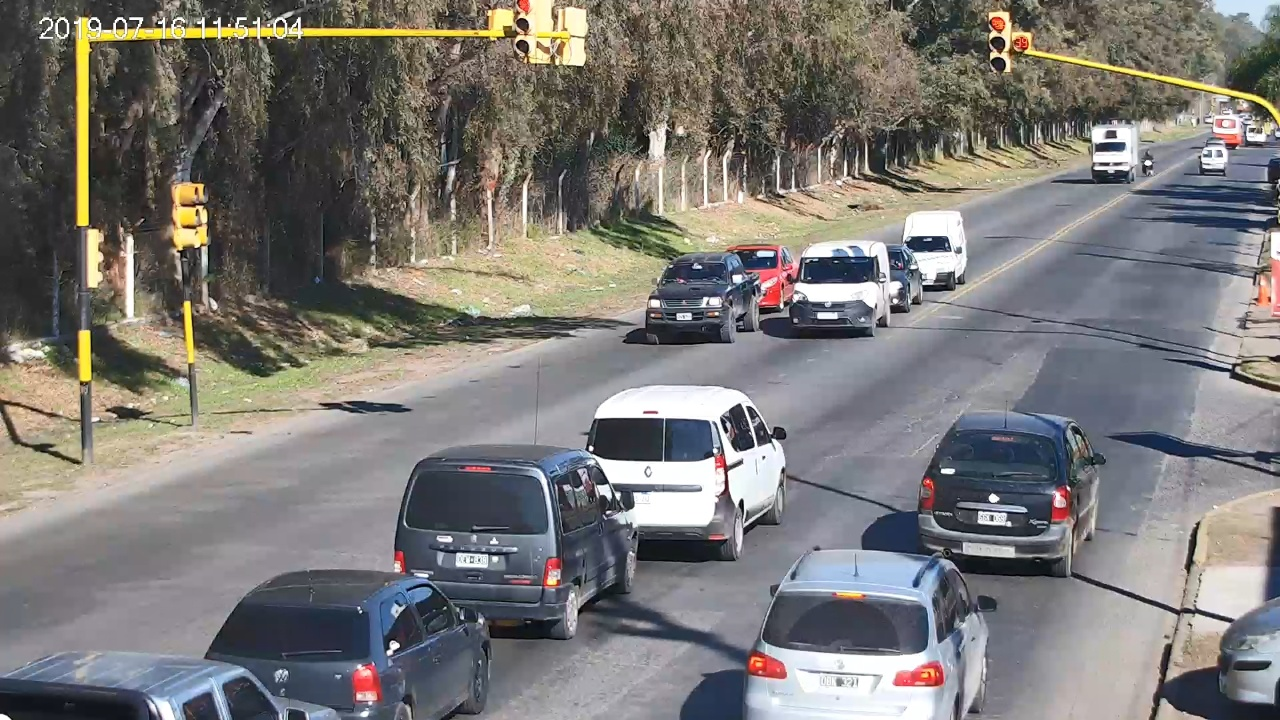car: (742, 546, 997, 720), (918, 411, 1107, 577)
front car: (646, 251, 759, 343), (788, 241, 890, 336)
traffic light: (989, 13, 1010, 72)
